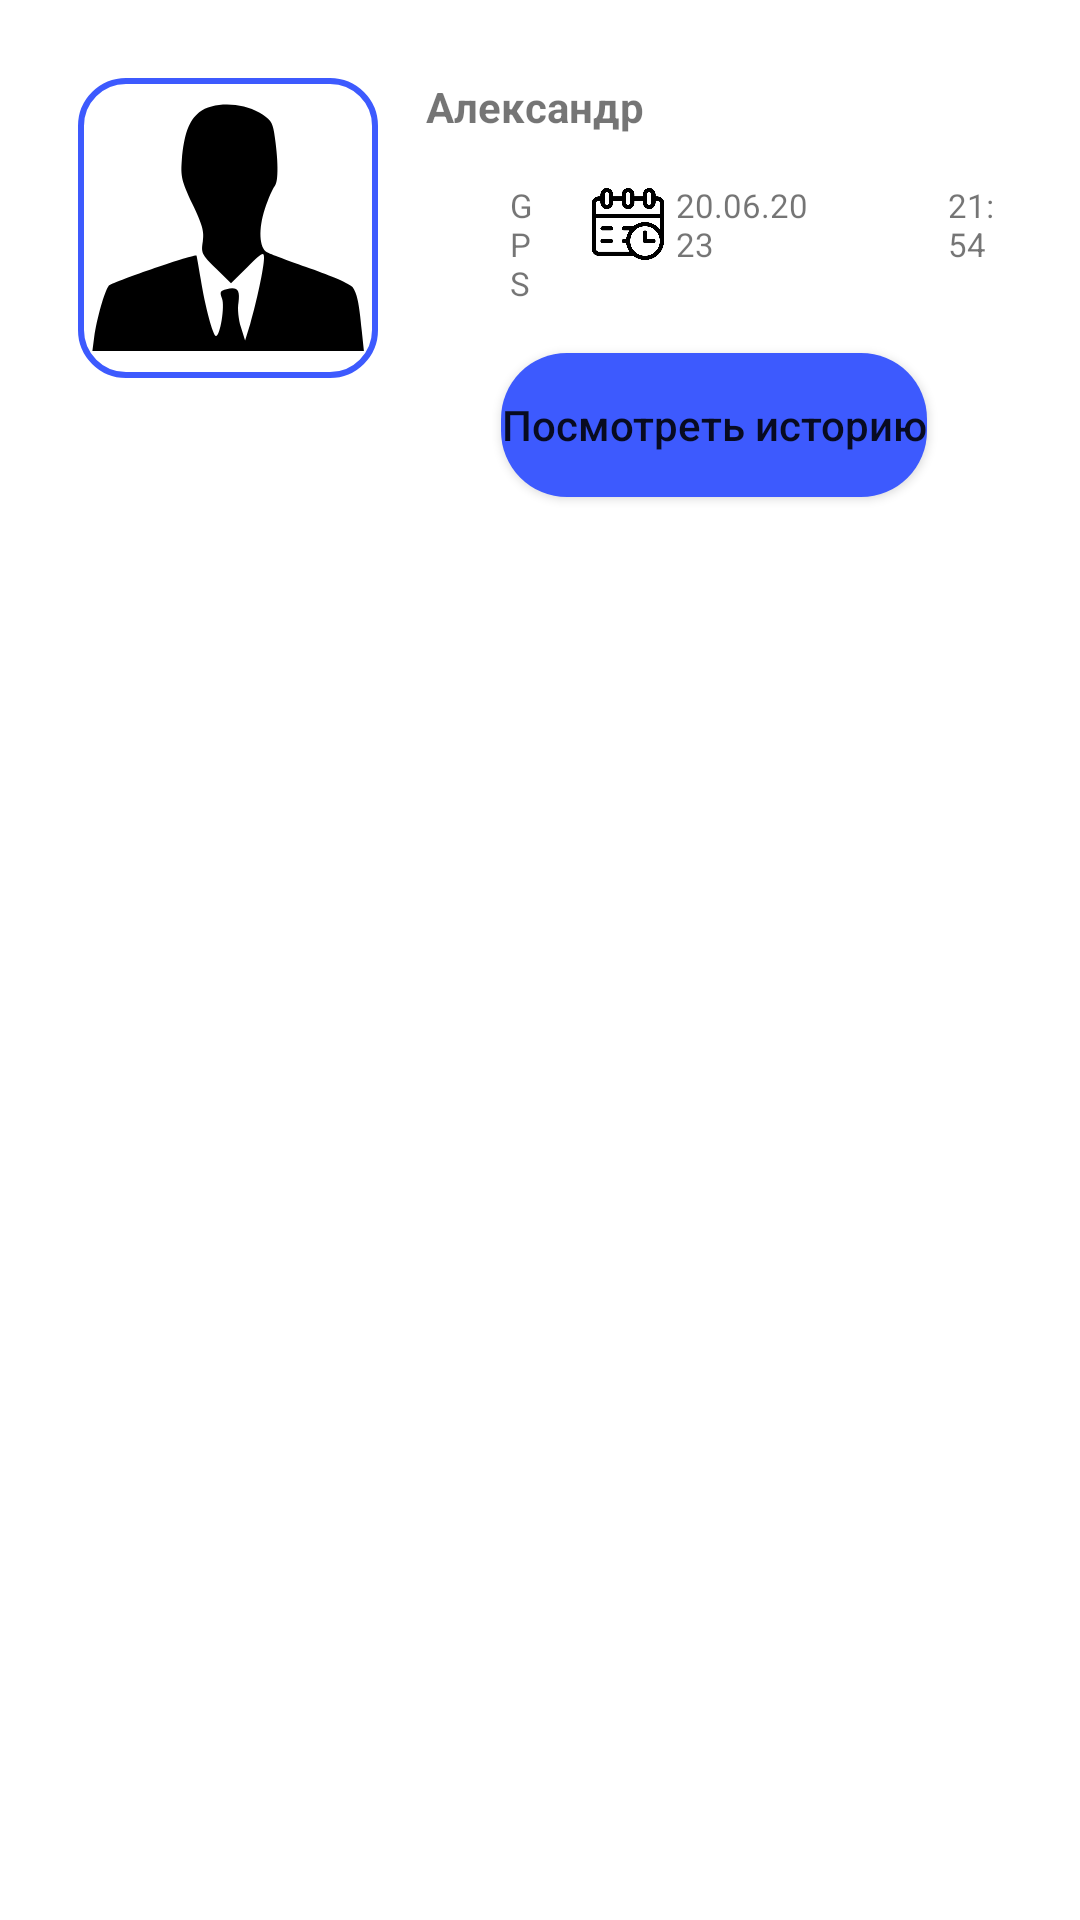

Icon bounding boxes for this 1080w x 1920h phone screenshot, format (x1, y1, x2, y2):
calendar: (592, 188, 664, 260)
